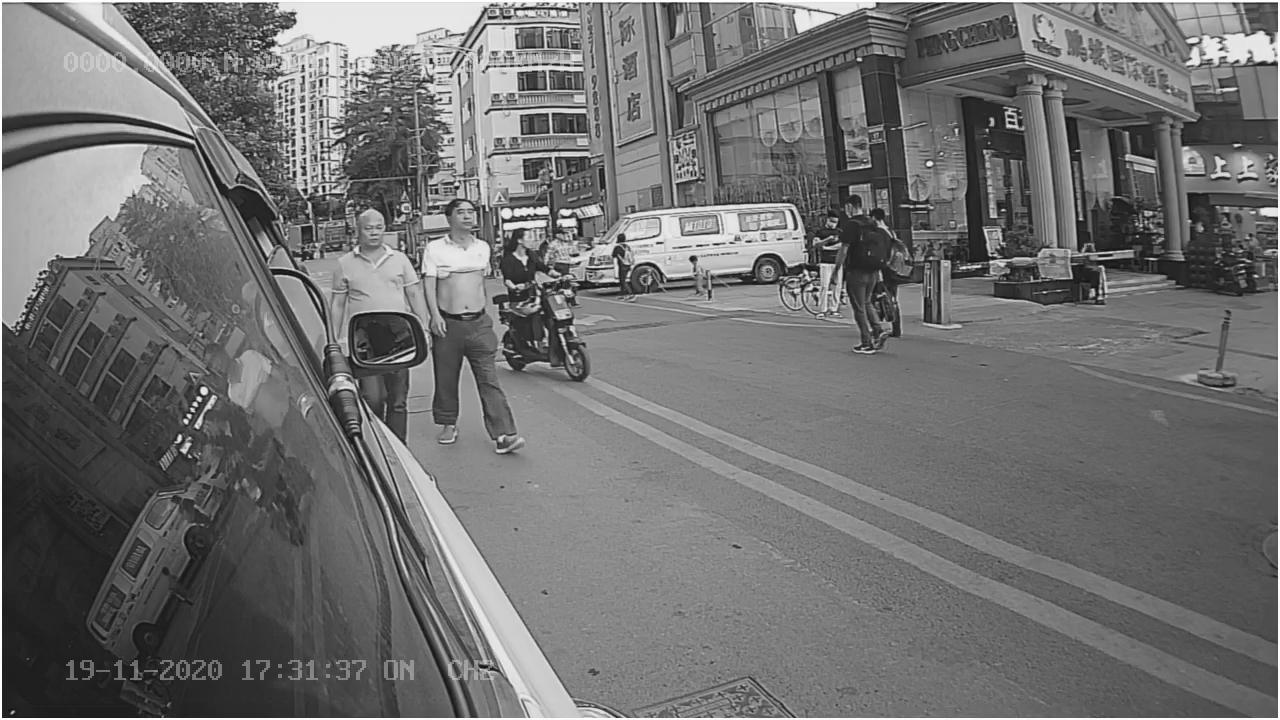person: (425, 200, 497, 451)
